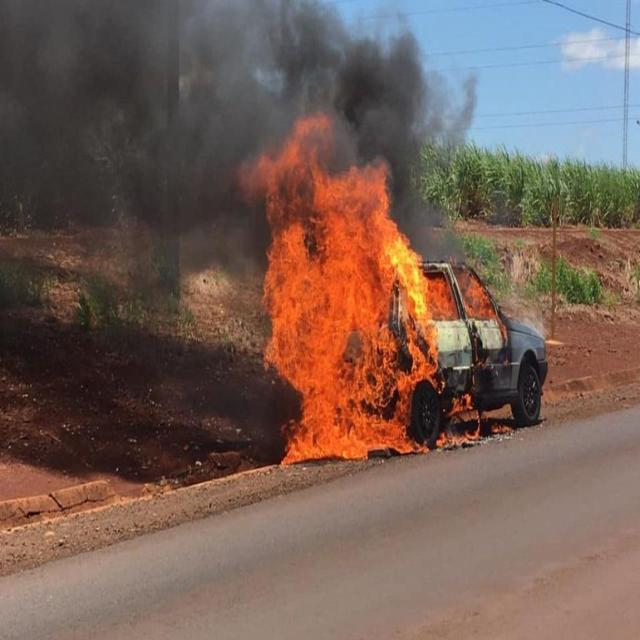Fire: (239, 112, 513, 466)
